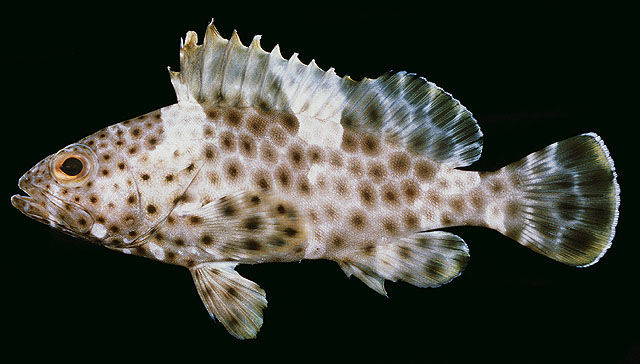fish: (11, 18, 621, 340)
